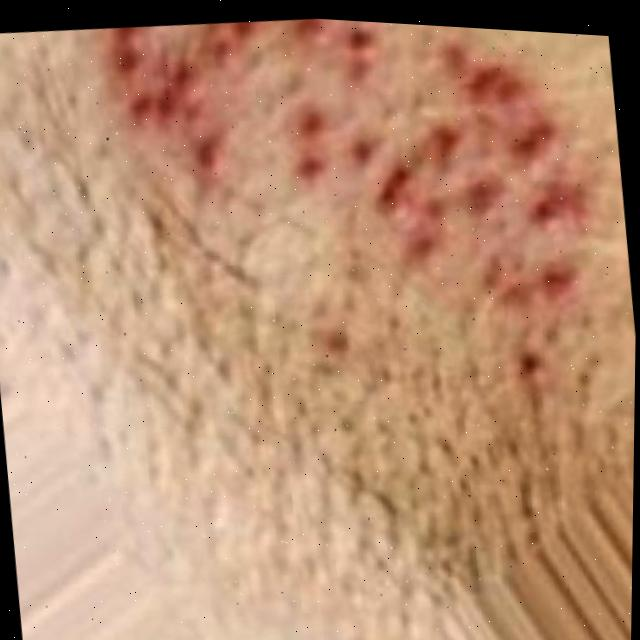Shingles: (83, 5, 609, 424)
